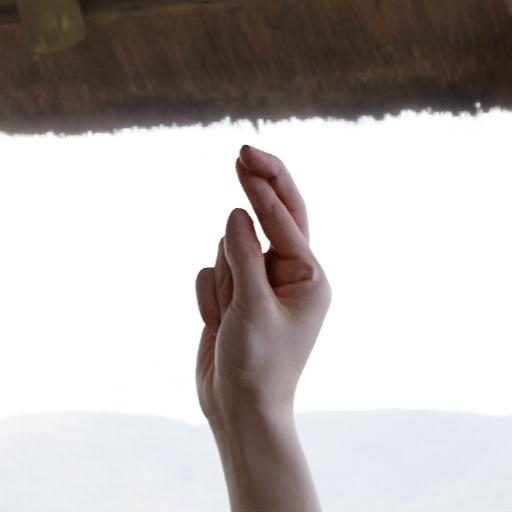R: (120, 74, 442, 488)
